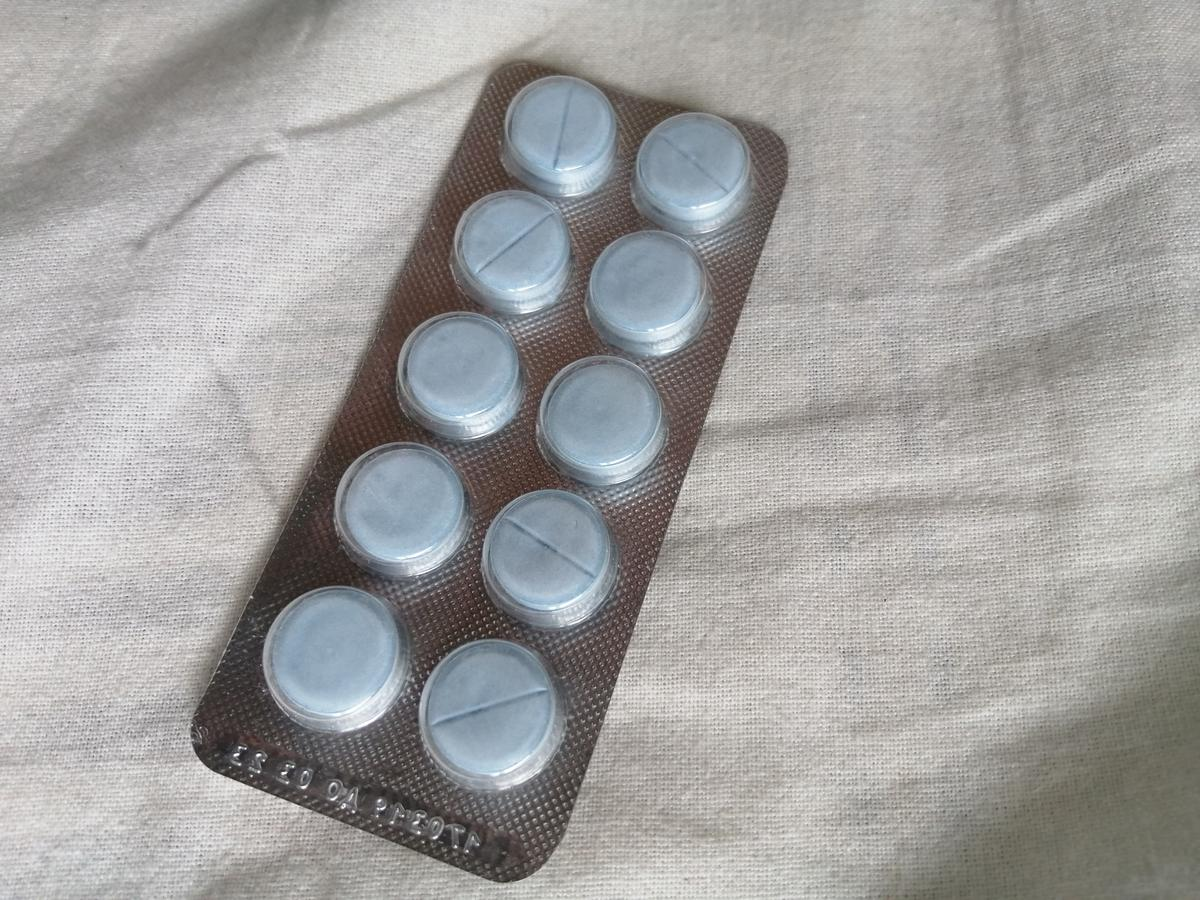tablet: (261, 583, 402, 730), (419, 634, 556, 776), (331, 439, 466, 578), (480, 486, 612, 627), (541, 352, 664, 488), (398, 310, 524, 430), (585, 230, 710, 346), (634, 112, 751, 227), (456, 190, 568, 305), (505, 75, 617, 183)
